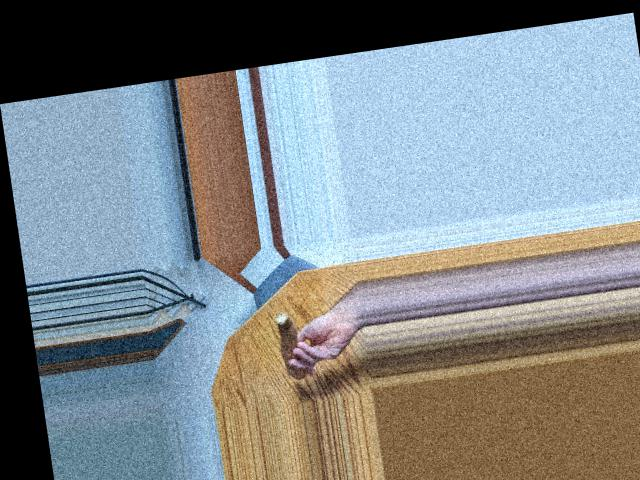sweet_potato: (272, 308, 312, 380)
